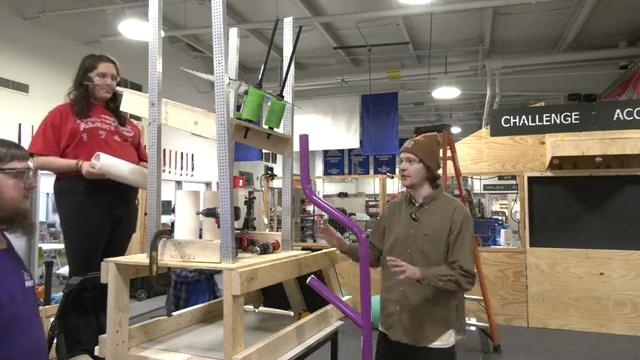CORAL: (89, 150, 148, 190), (175, 191, 199, 238), (203, 191, 220, 239)
